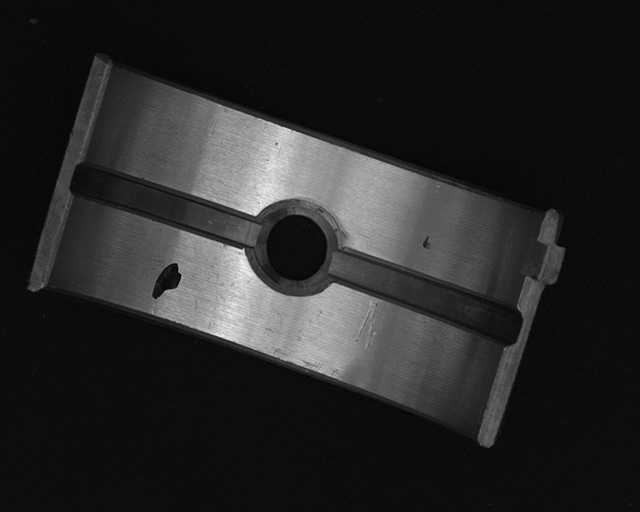blot: (151, 262, 182, 299)
bruise: (421, 235, 432, 249)
gap: (331, 248, 518, 345), (72, 162, 258, 243)
hole: (260, 200, 336, 291)
nick: (354, 300, 378, 352)
